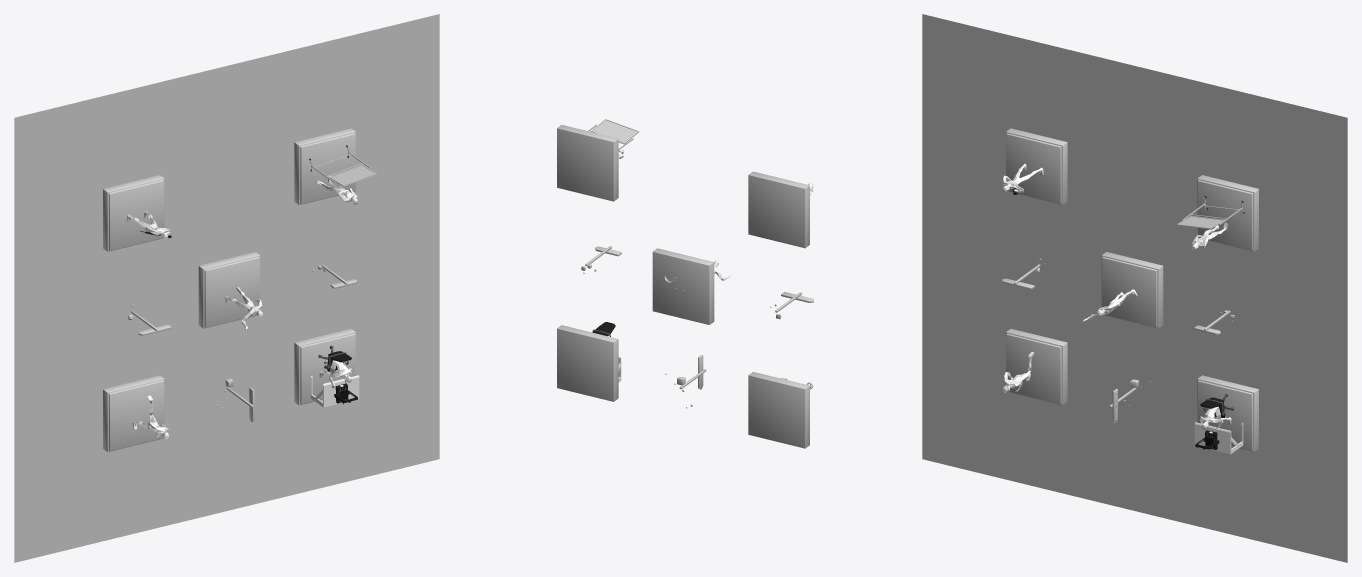
3 views of the same model, side by side, from view 1: azimuth 30°, elevation 25°; view 2: azimuth 150°, elevation 25°; view 3: azimuth 330°, elevation 25° (orthographic).
Visible parts, largest first — view 1: floor.001, shadeWhite.117, shadeWhite.002, shadeWhite.118, shadeWhite.120, shadeWhite.001, shadeBlue.068, shadeBlue.042; view 2: shadeWhite.117, shadeWhite.001, shadeWhite.118, shadeWhite.002, shadeWhite.120, shadeBlue.042; view 3: floor.001, shadeWhite.117, shadeWhite.002, shadeWhite.118, shadeWhite.120, shadeWhite.001, shadeBlue.068.
Boxes of the visible parts, x1,y1,x2,y2 form: floor.001: (14, 14, 439, 562); shadeWhite.117: (198, 252, 260, 328); shadeWhite.002: (103, 375, 164, 452); shadeWhite.118: (103, 175, 164, 251); shadeWhite.120: (294, 128, 355, 204); shadeWhite.001: (294, 328, 355, 405); shadeBlue.068: (311, 375, 359, 407); shadeBlue.042: (329, 164, 376, 186); shadeWhite.117: (652, 248, 714, 324); shadeWhite.001: (557, 325, 618, 401); shadeWhite.118: (748, 171, 809, 248); shadeWhite.002: (748, 372, 809, 448); shadeWhite.120: (557, 124, 618, 201); shadeBlue.042: (591, 119, 639, 143); floor.001: (922, 14, 1347, 562); shadeWhite.117: (1101, 252, 1163, 328); shadeWhite.002: (1006, 328, 1067, 405); shadeWhite.118: (1006, 128, 1067, 204); shadeWhite.120: (1197, 175, 1258, 251); shadeWhite.001: (1197, 375, 1258, 452); shadeBlue.068: (1194, 422, 1243, 454).
Bounding box in the file's own units: 40 × 40 × 6.73.
28 materials, 1 textured.
